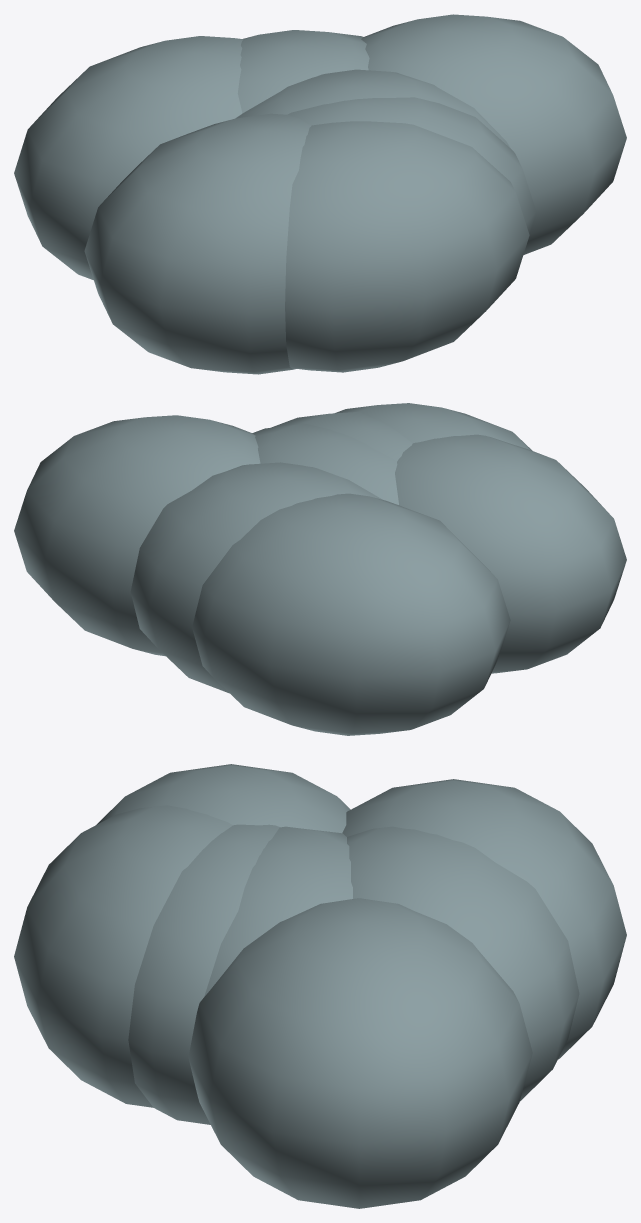
File: antarctic-rock.glb
3 views of the same model, one above another, from view 1: azimuth 30°, elevation 25°; view 2: azimuth 150°, elevation 25°; view 3: azimuth 270°, elevation 25° (orthographic). The views are drawn at different scales.
Visible parts, largest first — view 1: antarctic-rock; view 2: antarctic-rock; view 3: antarctic-rock.
Boxes of the visible parts, x1,y1,x2,y2 form: antarctic-rock: [14, 14, 626, 374]; antarctic-rock: [14, 403, 626, 735]; antarctic-rock: [14, 764, 626, 1208].
Size of the model in its own units: 1.21 by 0.46 by 0.9903.
